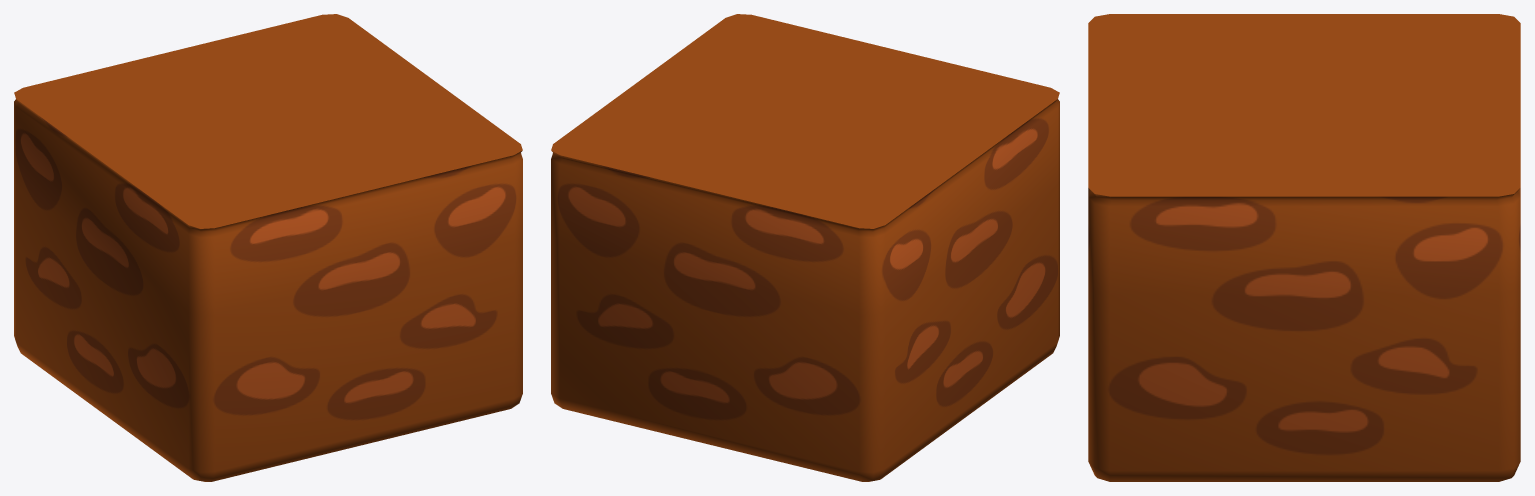
The model's file is 3D_Tile_Socket_Underground_03.fbx.
The picture shows the model from 3 angles, left to right: view 1: azimuth 30°, elevation 25°; view 2: azimuth 150°, elevation 25°; view 3: azimuth 270°, elevation 25°; orthographic projection. The views are drawn at different scales.
Parts seen in each view (by area): view 1: 3D_Tile_Socket_Underground_03; view 2: 3D_Tile_Socket_Underground_03; view 3: 3D_Tile_Socket_Underground_03.
Boxes of the visible parts, x1,y1,x2,y2 form: 3D_Tile_Socket_Underground_03: [14, 14, 522, 481]; 3D_Tile_Socket_Underground_03: [551, 14, 1059, 481]; 3D_Tile_Socket_Underground_03: [1088, 14, 1520, 481].
Size of the model in its own units: 200 by 150 by 200.
